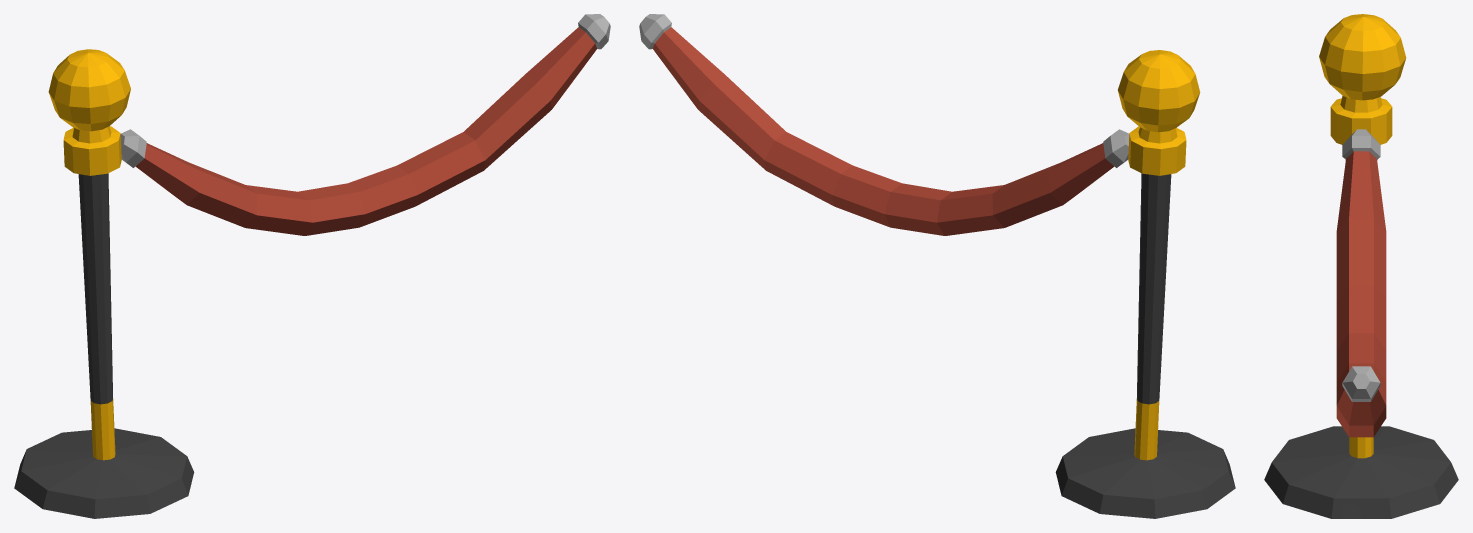
The model's file is Museum_Rope.fbx.
The picture shows the model from 3 angles, left to right: view 1: azimuth 30°, elevation 25°; view 2: azimuth 150°, elevation 25°; view 3: azimuth 270°, elevation 25°; orthographic projection. The views are drawn at different scales.
Visible parts, largest first — view 1: Cylinder; view 2: Cylinder; view 3: Cylinder.
Part boxes in pixels (x1=…): Cylinder: x1=14, y1=14, x2=610, y2=518; Cylinder: x1=639, y1=14, x2=1235, y2=518; Cylinder: x1=1264, y1=14, x2=1458, y2=518.
Size of the model in its own units: 170 by 120 by 46.67.
